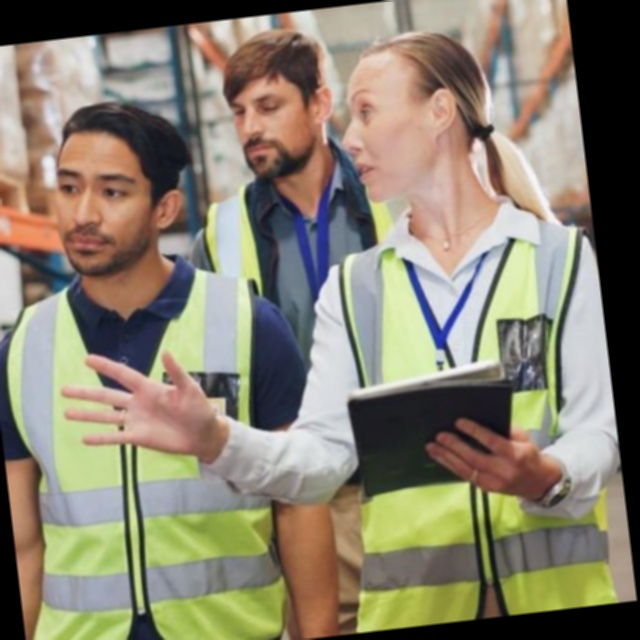Con_Chaleco: (334, 210, 621, 630), (0, 258, 301, 640)
Sin_Casco_Mascarrilla: (336, 22, 502, 205), (43, 96, 184, 278), (215, 21, 337, 180)
